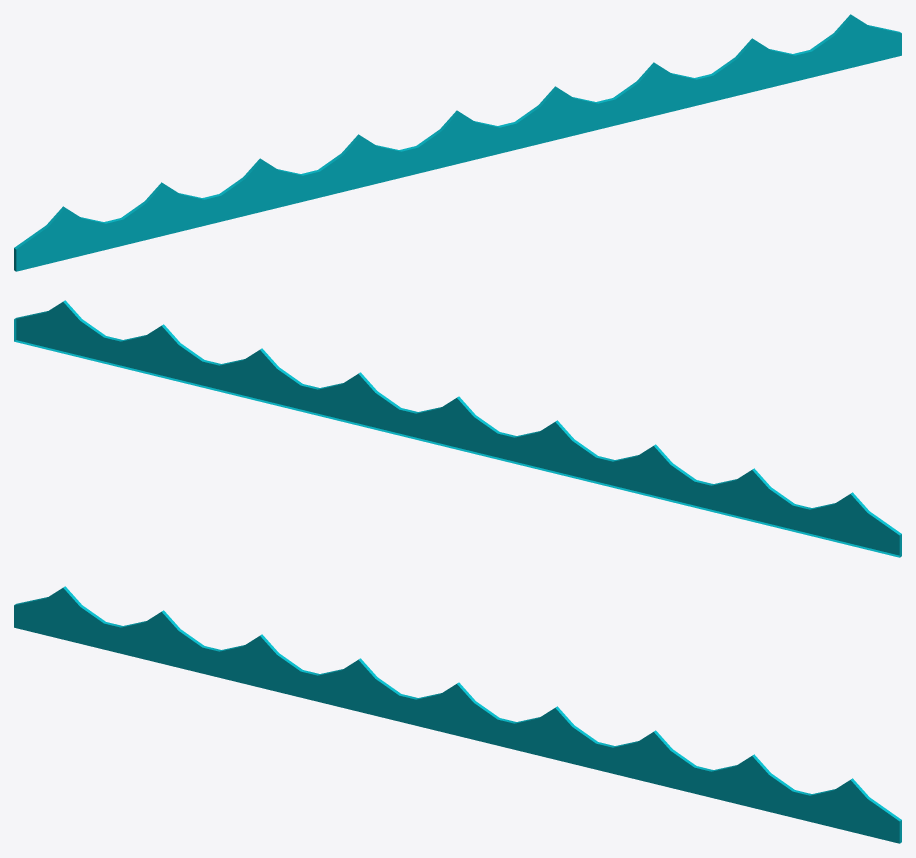
File: waves.FBX
3 views of the same model, one above another, from view 1: azimuth 30°, elevation 25°; view 2: azimuth 150°, elevation 25°; view 3: azimuth 330°, elevation 25° (orthographic).
Parts seen in each view (by area): view 1: waves; view 2: waves; view 3: waves.
Part boxes in pixels (x1=…): waves: x1=14, y1=14, x2=901, y2=271; waves: x1=14, y1=300, x2=901, y2=557; waves: x1=14, y1=586, x2=901, y2=843.
Size of the model in its own units: 478 by 26.74 by 2.07.
